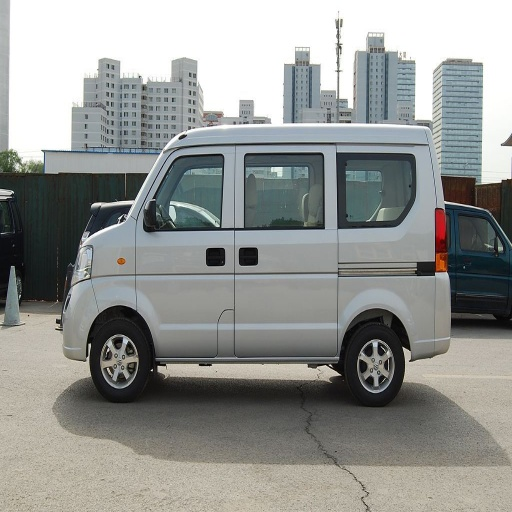trunk: (278, 243, 442, 357)
